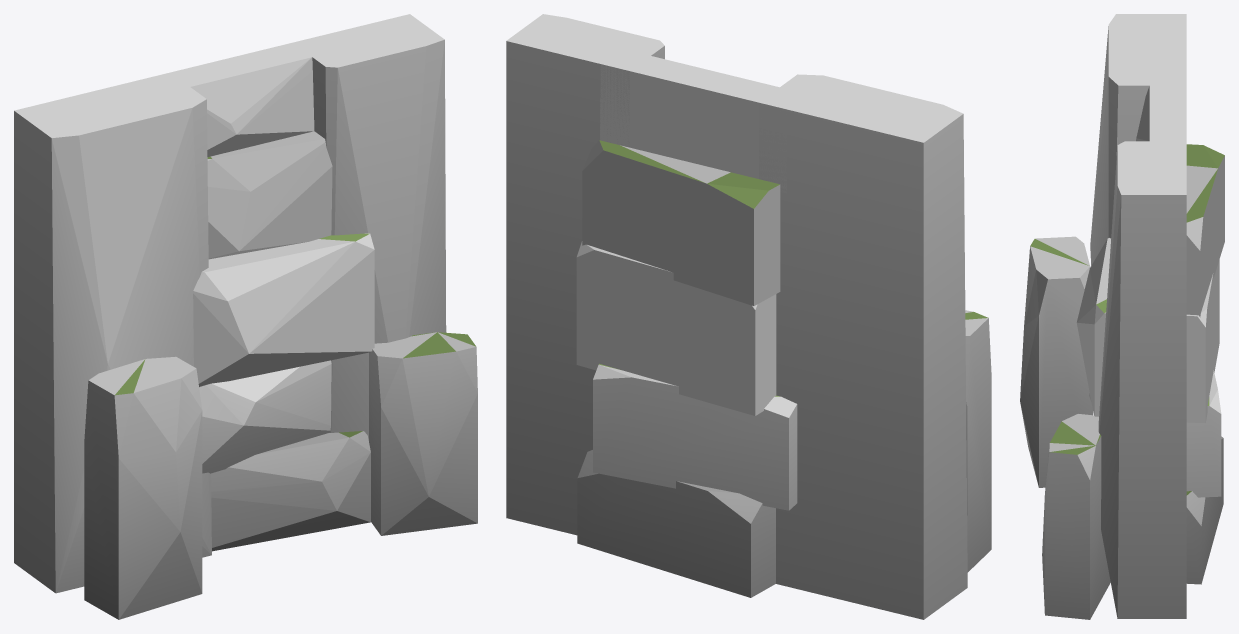
3 views of the same model, side by side, from view 1: azimuth 30°, elevation 25°; view 2: azimuth 150°, elevation 25°; view 3: azimuth 270°, elevation 25° (orthographic). The views are drawn at different scales.
Parts seen in each view (by area): view 1: rk_cf4_1; view 2: rk_cf4_1; view 3: rk_cf4_1.
Boxes of the visible parts, x1=… form: rk_cf4_1: x1=14, y1=14, x2=477, y2=619; rk_cf4_1: x1=506, y1=14, x2=991, y2=619; rk_cf4_1: x1=1020, y1=14, x2=1224, y2=619.
Bounding box in the file's own units: 34.53 × 37.5 × 16.43.
